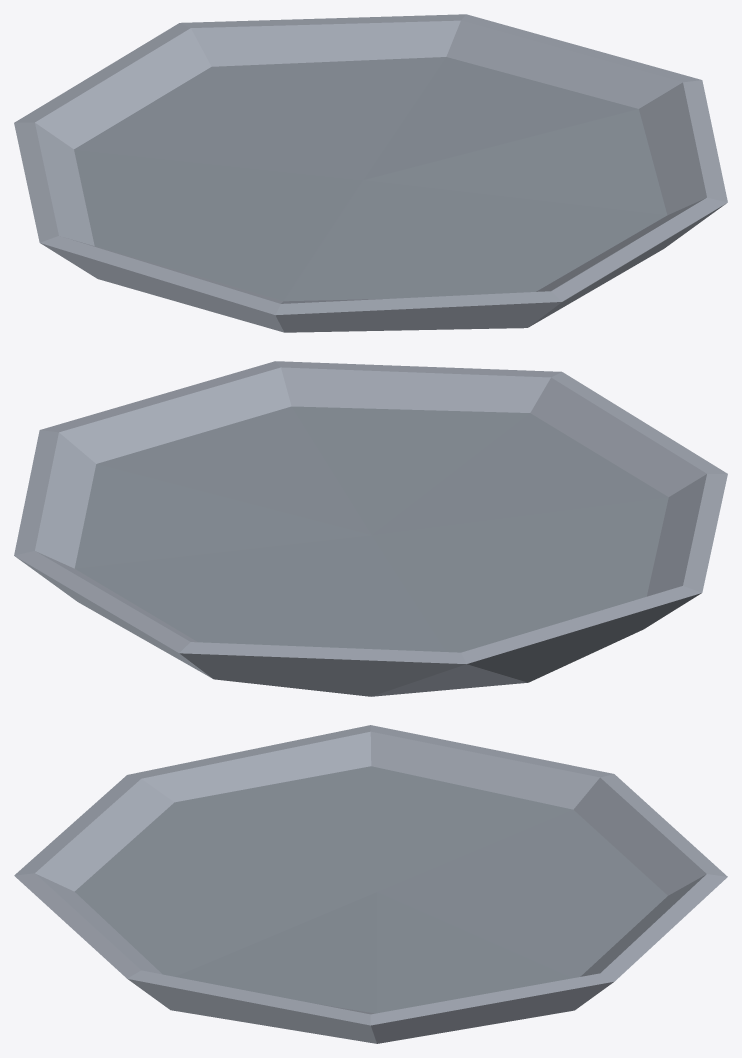
Rendered from SM_Prop_Plate_Large_02.glb.
3 renders of one model, top to bottom at view 1: azimuth 30°, elevation 25°; view 2: azimuth 150°, elevation 25°; view 3: azimuth 270°, elevation 25°, orthographic. The views are drawn at different scales.
Parts seen in each view (by area): view 1: SM_Prop_Plate_Large_02; view 2: SM_Prop_Plate_Large_02; view 3: SM_Prop_Plate_Large_02.
Part boxes in pixels (x1,y1,x2,y2): SM_Prop_Plate_Large_02: (14,14,727,332); SM_Prop_Plate_Large_02: (14,361,727,696); SM_Prop_Plate_Large_02: (14,725,727,1043).
Bounding box in the file's own units: 0.9308 × 0.0792 × 0.9314.
Materials: 1 (1 with a texture image).
